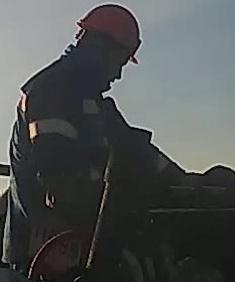helmet: (75, 3, 146, 68)
vest: (14, 95, 128, 273)
